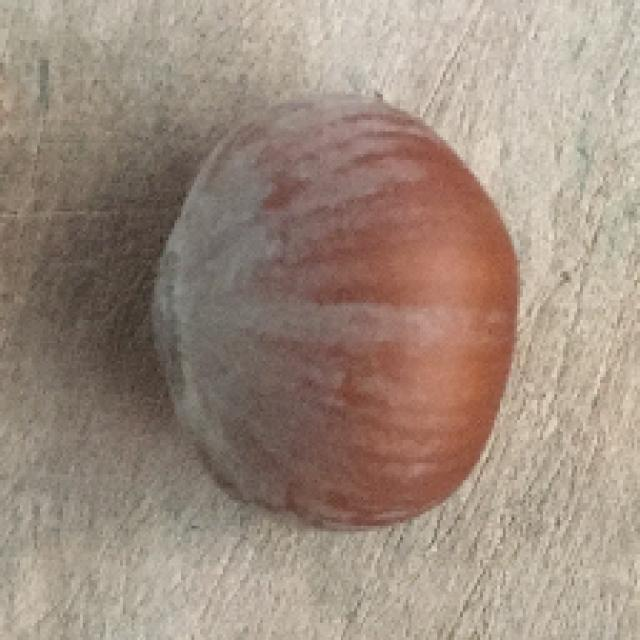qualityHazelnut: (155, 92, 523, 530)
